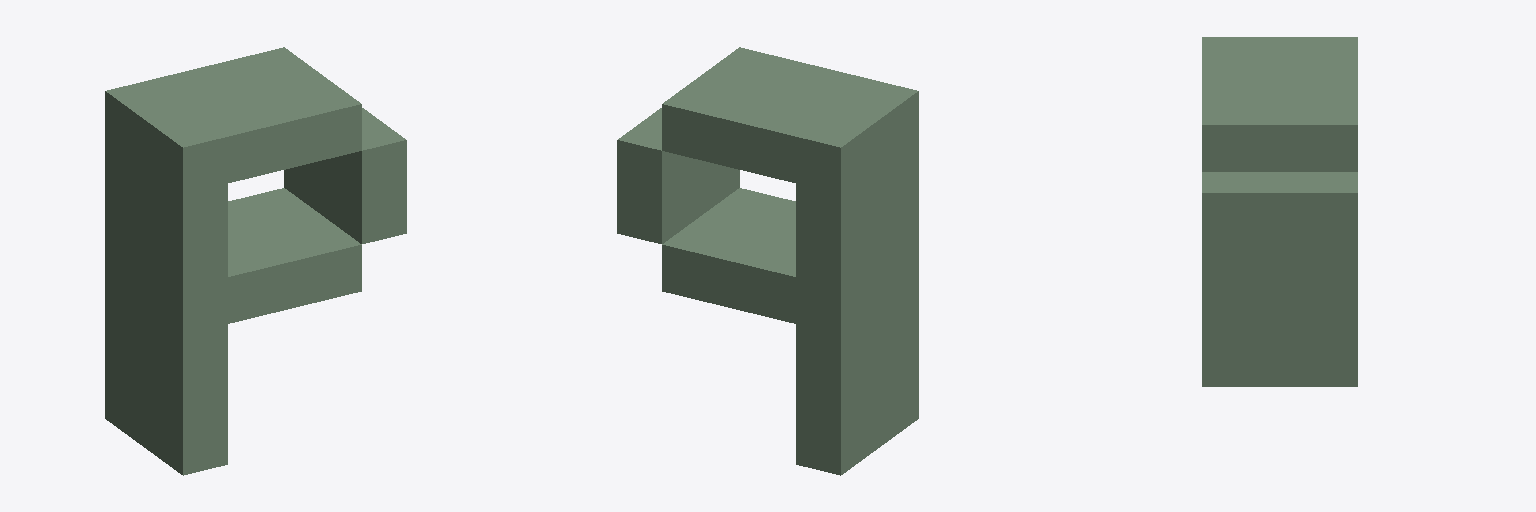
The picture shows the model from 3 angles: view 1: azimuth 30°, elevation 25°; view 2: azimuth 150°, elevation 25°; view 3: azimuth 270°, elevation 25°; orthographic projection.
Bounding box in the file's own units: 5 × 7 × 3.
Materials: 1 (1 with a texture image).